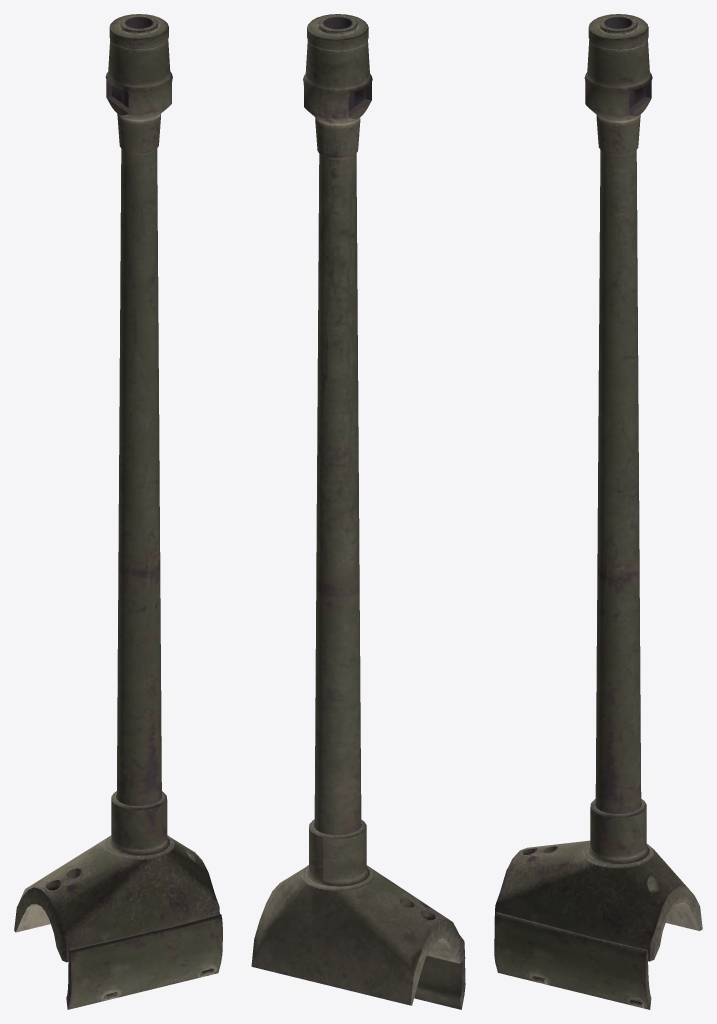
The model's file is Gun_01.glb.
The picture shows the model from 3 angles, left to right: view 1: azimuth 30°, elevation 25°; view 2: azimuth 150°, elevation 25°; view 3: azimuth 330°, elevation 25°; orthographic projection. The views are drawn at different scales.
Visible parts, largest first — view 1: set_0_group_0; view 2: set_0_group_0; view 3: set_0_group_0.
Part boxes in pixels (bbox=[...]): set_0_group_0: bbox=[14, 14, 222, 1009]; set_0_group_0: bbox=[251, 14, 465, 1009]; set_0_group_0: bbox=[494, 14, 702, 1009].
Size of the model in its own units: 0.8553 by 5.04 by 0.5419.
Materials: 1 (1 with a texture image).
